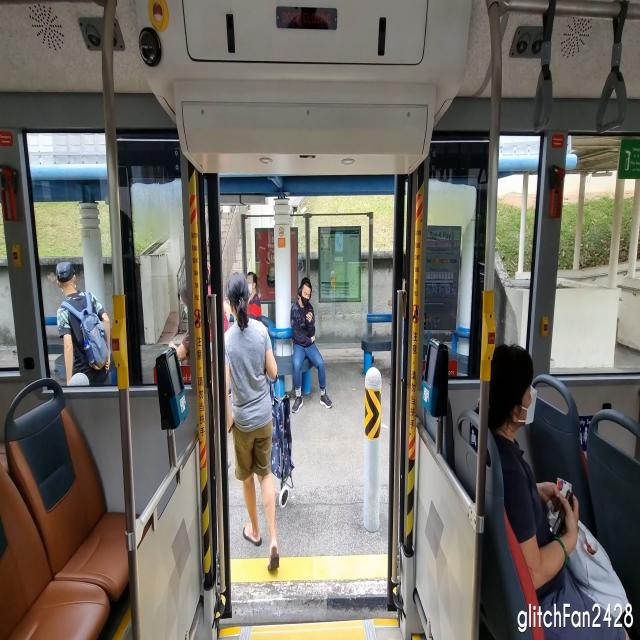bus-door: (205, 173, 231, 618), (388, 176, 406, 611)
